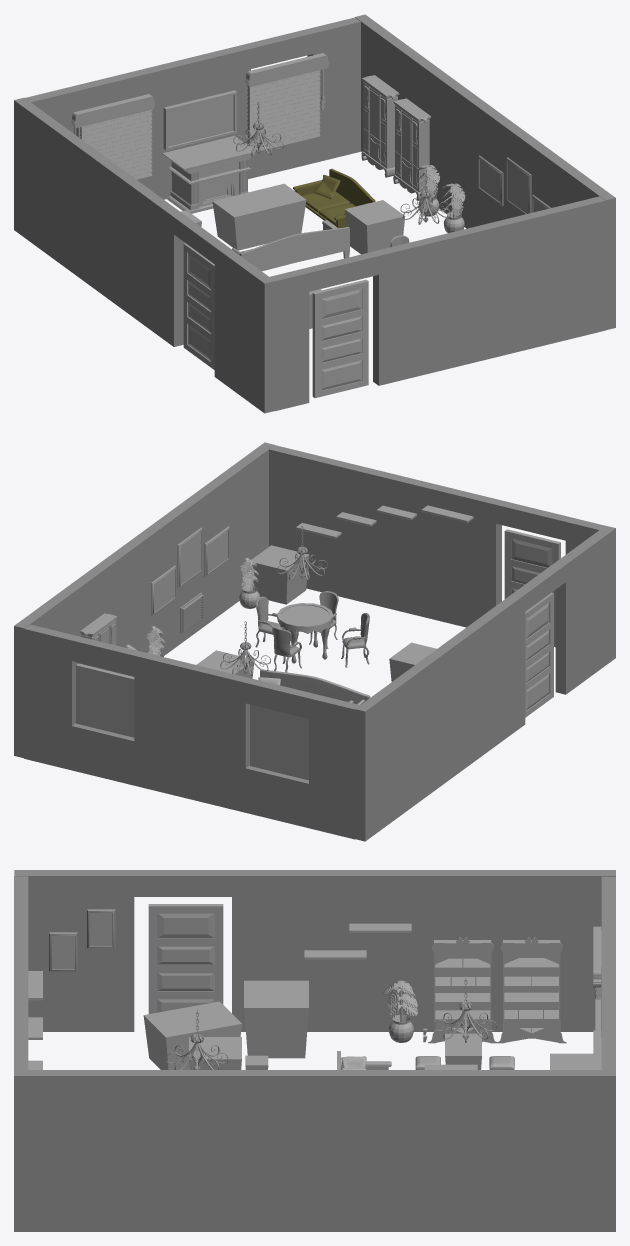
Rendered from TutorialMeters.fbx.
3 renders of one model, top to bottom at view 1: azimuth 30°, elevation 25°; view 2: azimuth 150°, elevation 25°; view 3: azimuth 270°, elevation 25°, orthographic. The views are drawn at different scales.
Parts seen in each view (by area): view 1: polySurface106; view 2: polySurface106; view 3: polySurface106.
Part boxes in pixels (x1=…): polySurface106: x1=14, y1=14, x2=615, y2=413; polySurface106: x1=14, y1=442, x2=615, y2=841; polySurface106: x1=14, y1=870, x2=615, y2=1231.
Size of the model in its own units: 8.49 by 3.02 by 10.49.
